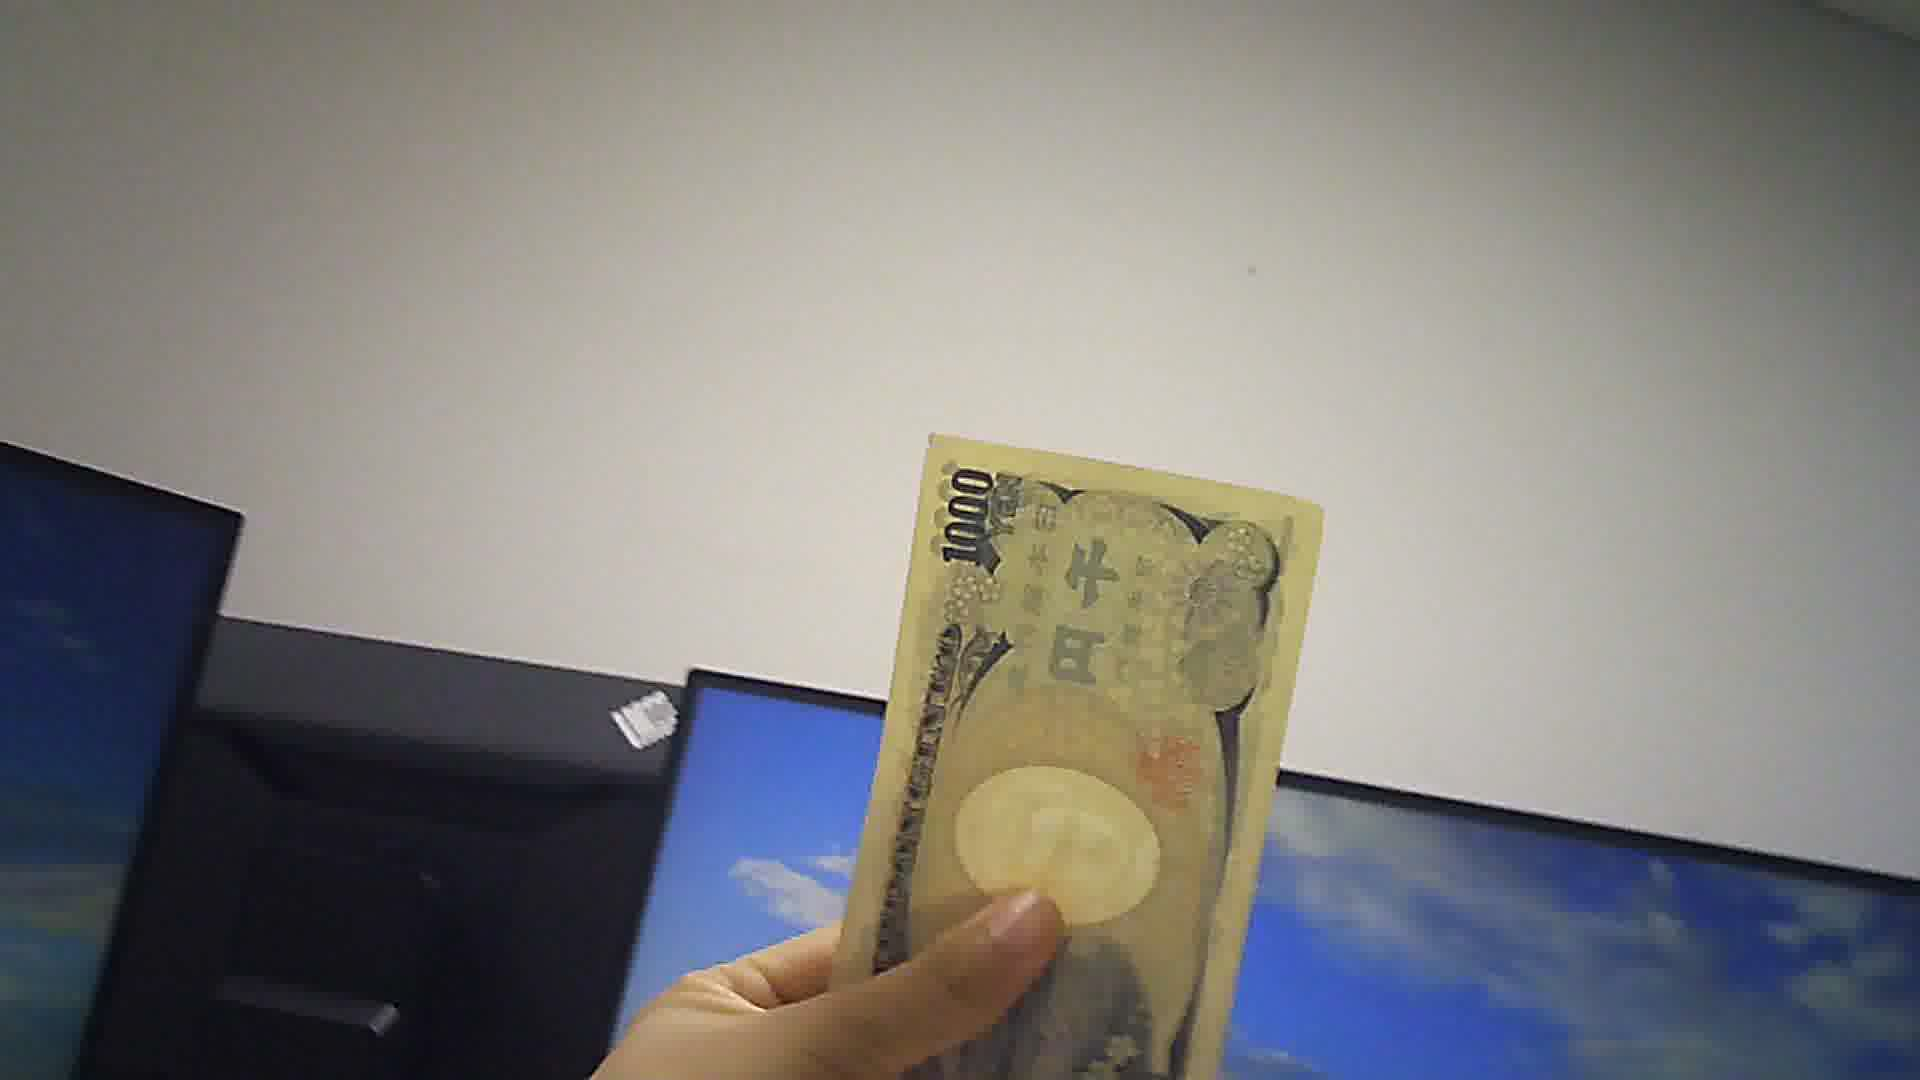1,000 Yen: (847, 409, 1328, 1079)
